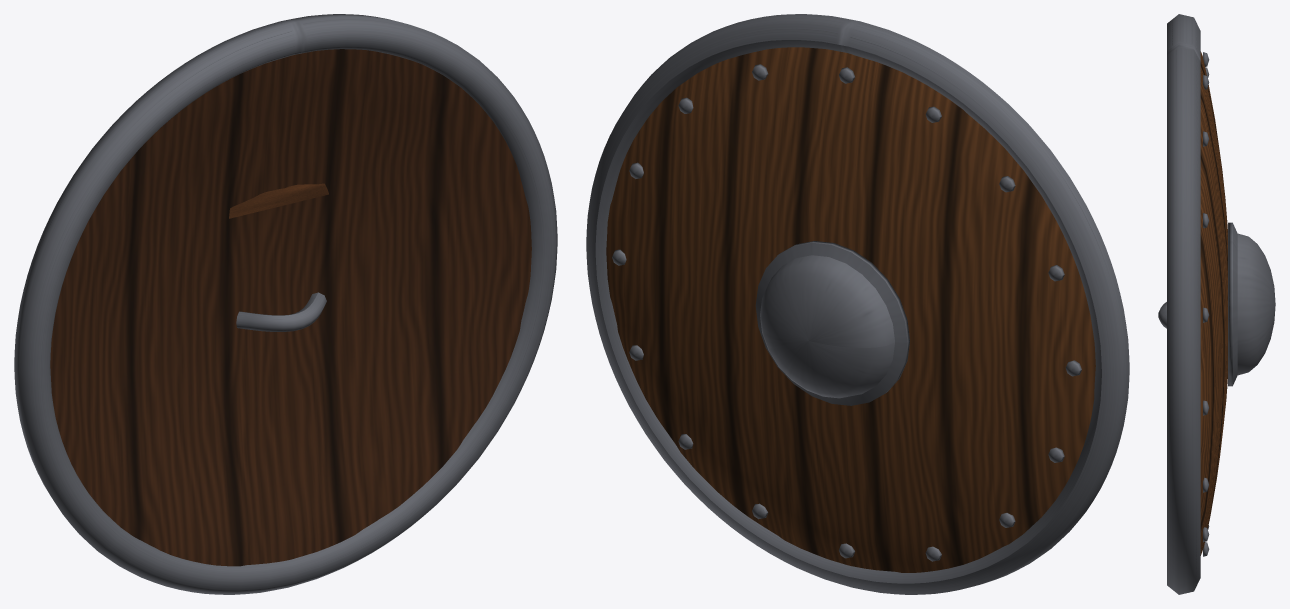
Rendered from Shield.glb.
The picture shows the model from 3 angles, left to right: view 1: azimuth 30°, elevation 25°; view 2: azimuth 150°, elevation 25°; view 3: azimuth 270°, elevation 25°; orthographic projection. The views are drawn at different scales.
Parts seen in each view (by area): view 1: Shield; view 2: Shield; view 3: Shield.
Part boxes in pixels (x1,y1,x2,y2): Shield: (14,14,557,594); Shield: (586,14,1129,594); Shield: (1158,14,1275,594).
Bounding box in the file's own units: 2.45 × 2.45 × 0.4932.
Materials: 1 (1 with a texture image).
